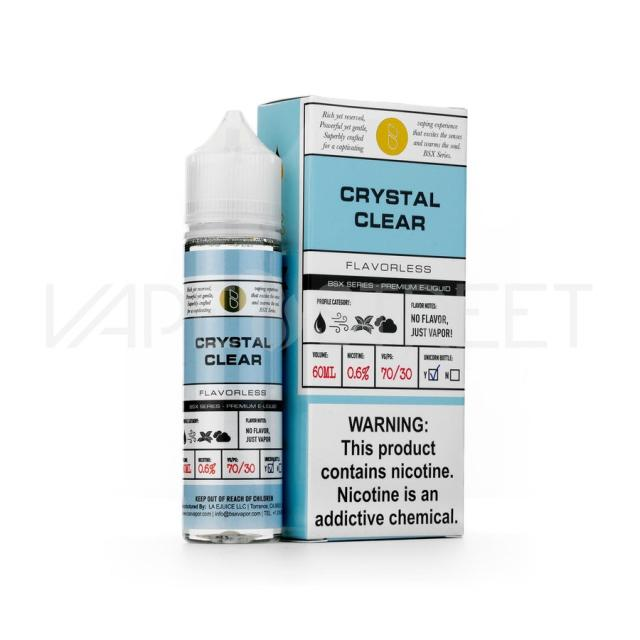Hazard: (180, 109, 286, 544)
